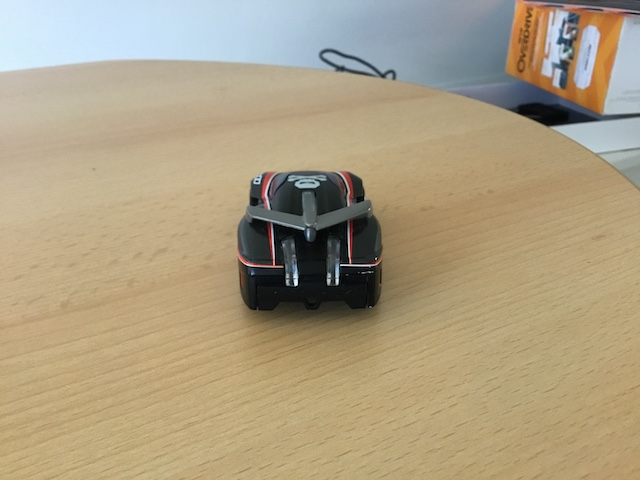car-red: (232, 166, 385, 314)
